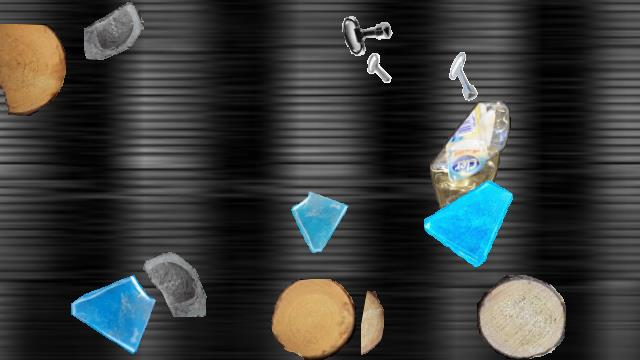glass: (67, 269, 157, 359), (424, 177, 514, 267), (133, 240, 209, 316), (288, 190, 352, 254), (84, 1, 144, 61)
metal: (335, 1, 397, 63), (441, 51, 491, 101), (343, 51, 391, 99)
plastic: (430, 101, 512, 247)
wood: (477, 275, 565, 359), (271, 279, 355, 359), (0, 24, 65, 116), (361, 291, 383, 359)
